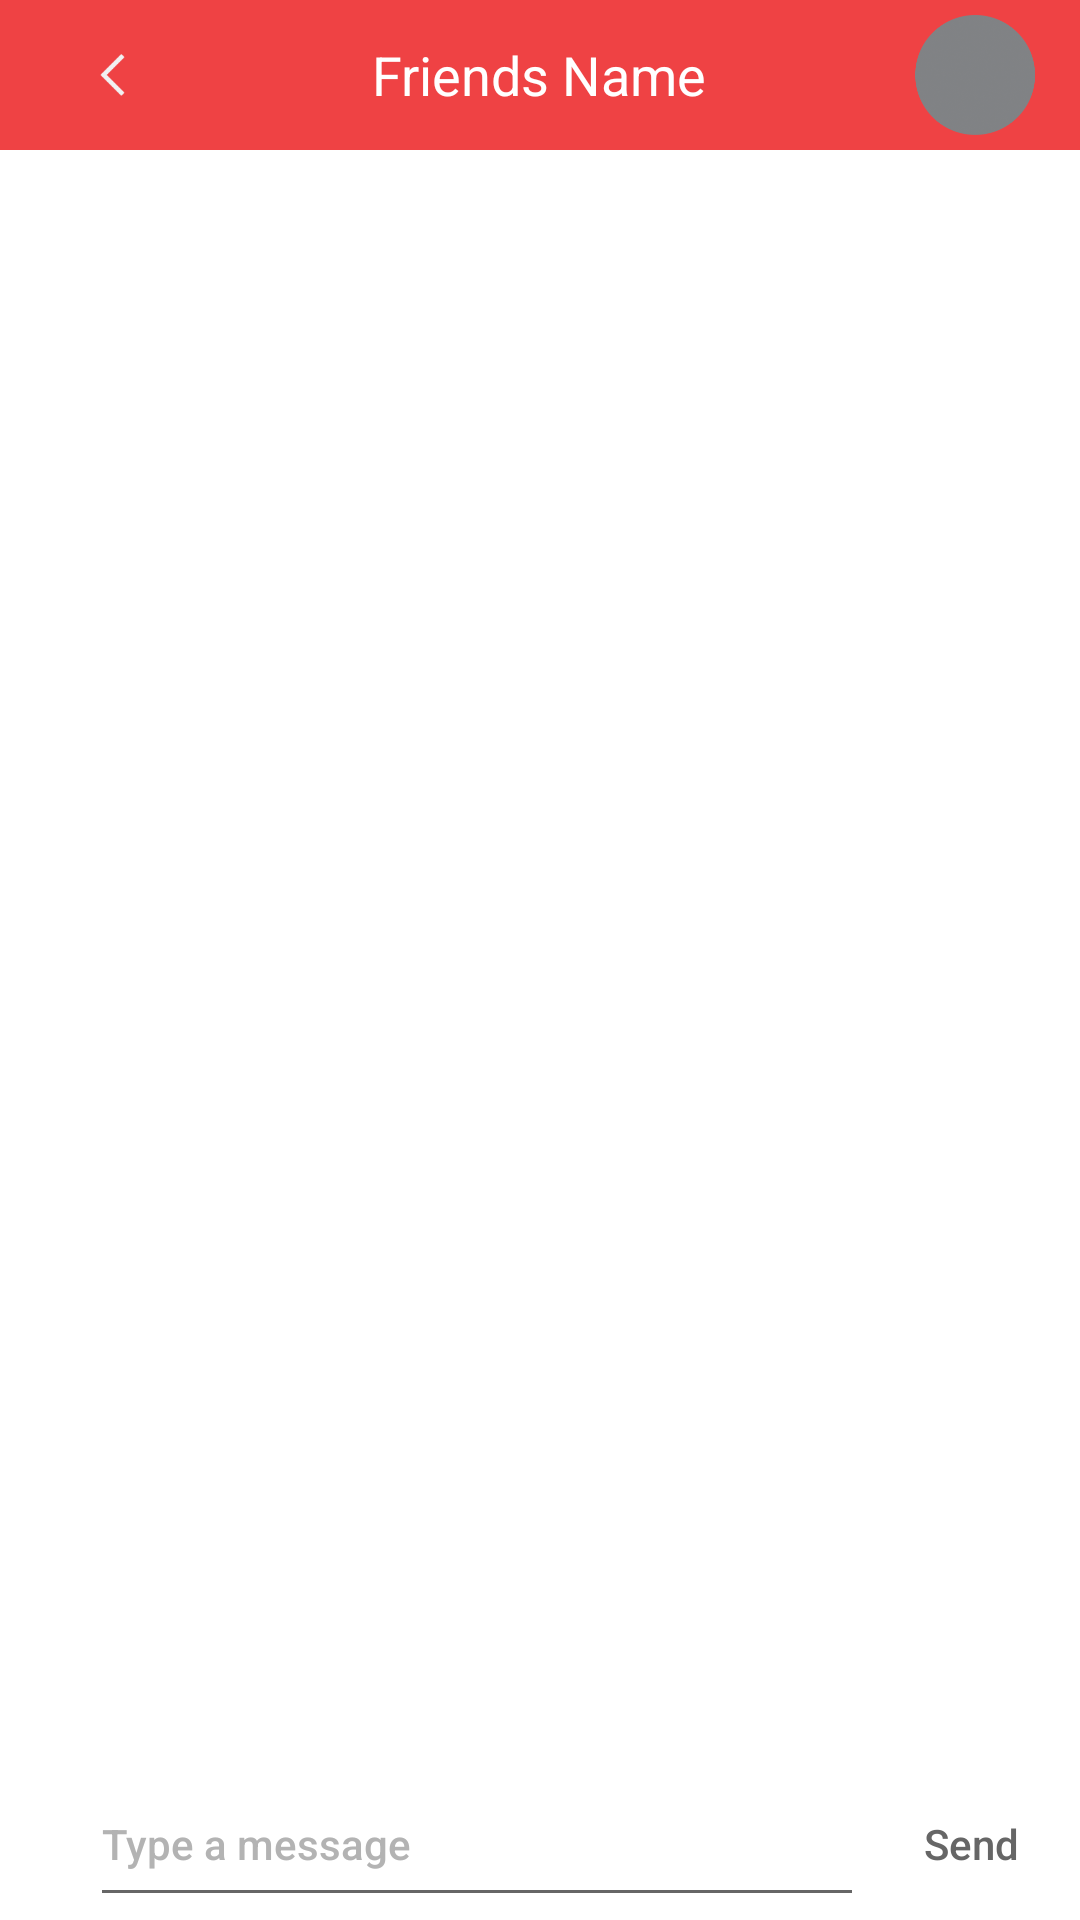

Point at icon controls on the screen. Image size 1080×1920, points as [x,y].
back: [112,75]
